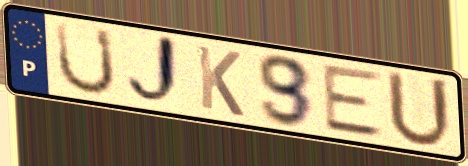9: (254, 53, 317, 130)
E: (319, 63, 388, 141)
J: (123, 31, 184, 109)
K: (194, 42, 247, 120)
U: (384, 67, 455, 151), (54, 19, 119, 97)
